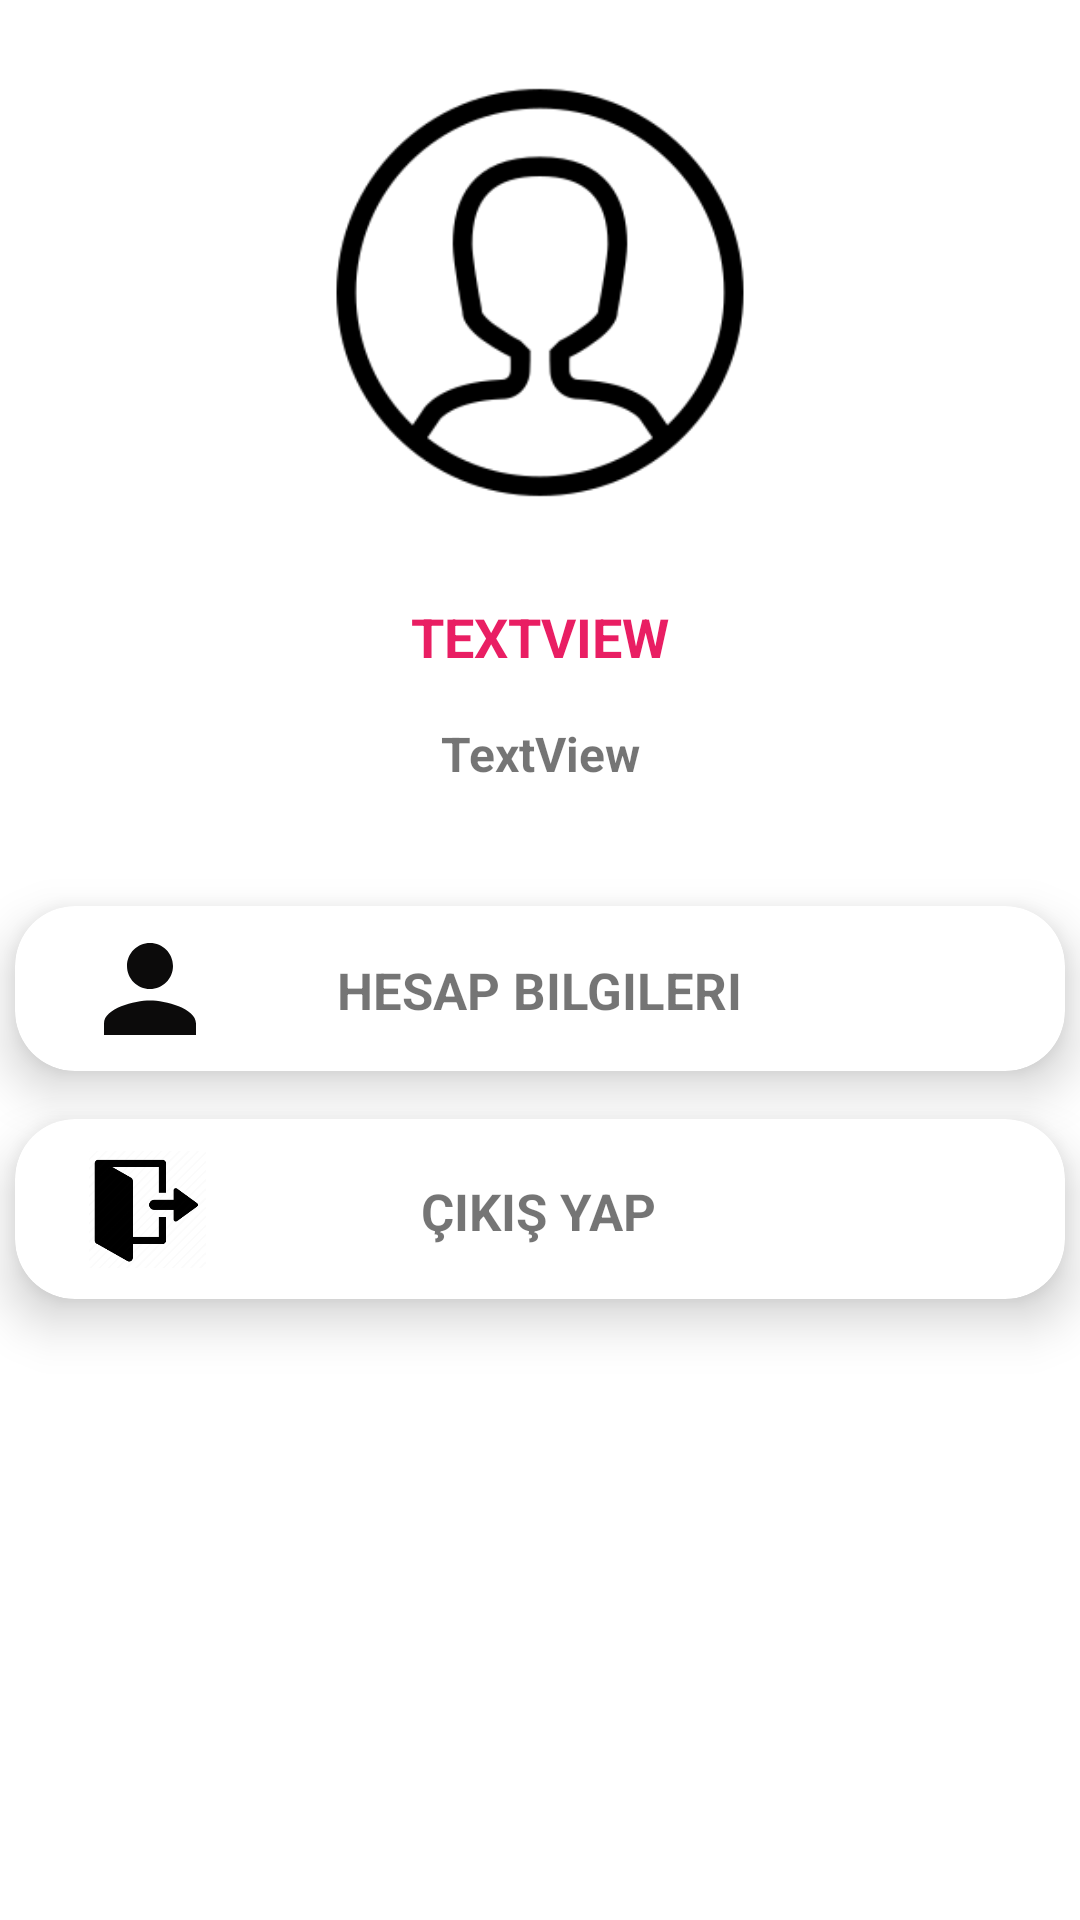

Screen size 1080 x 1920. Icon name, then its box in pixels as (x1, y1, x2, y2):
cikis: (94, 1159, 198, 1262)
person: (104, 943, 196, 1035)
